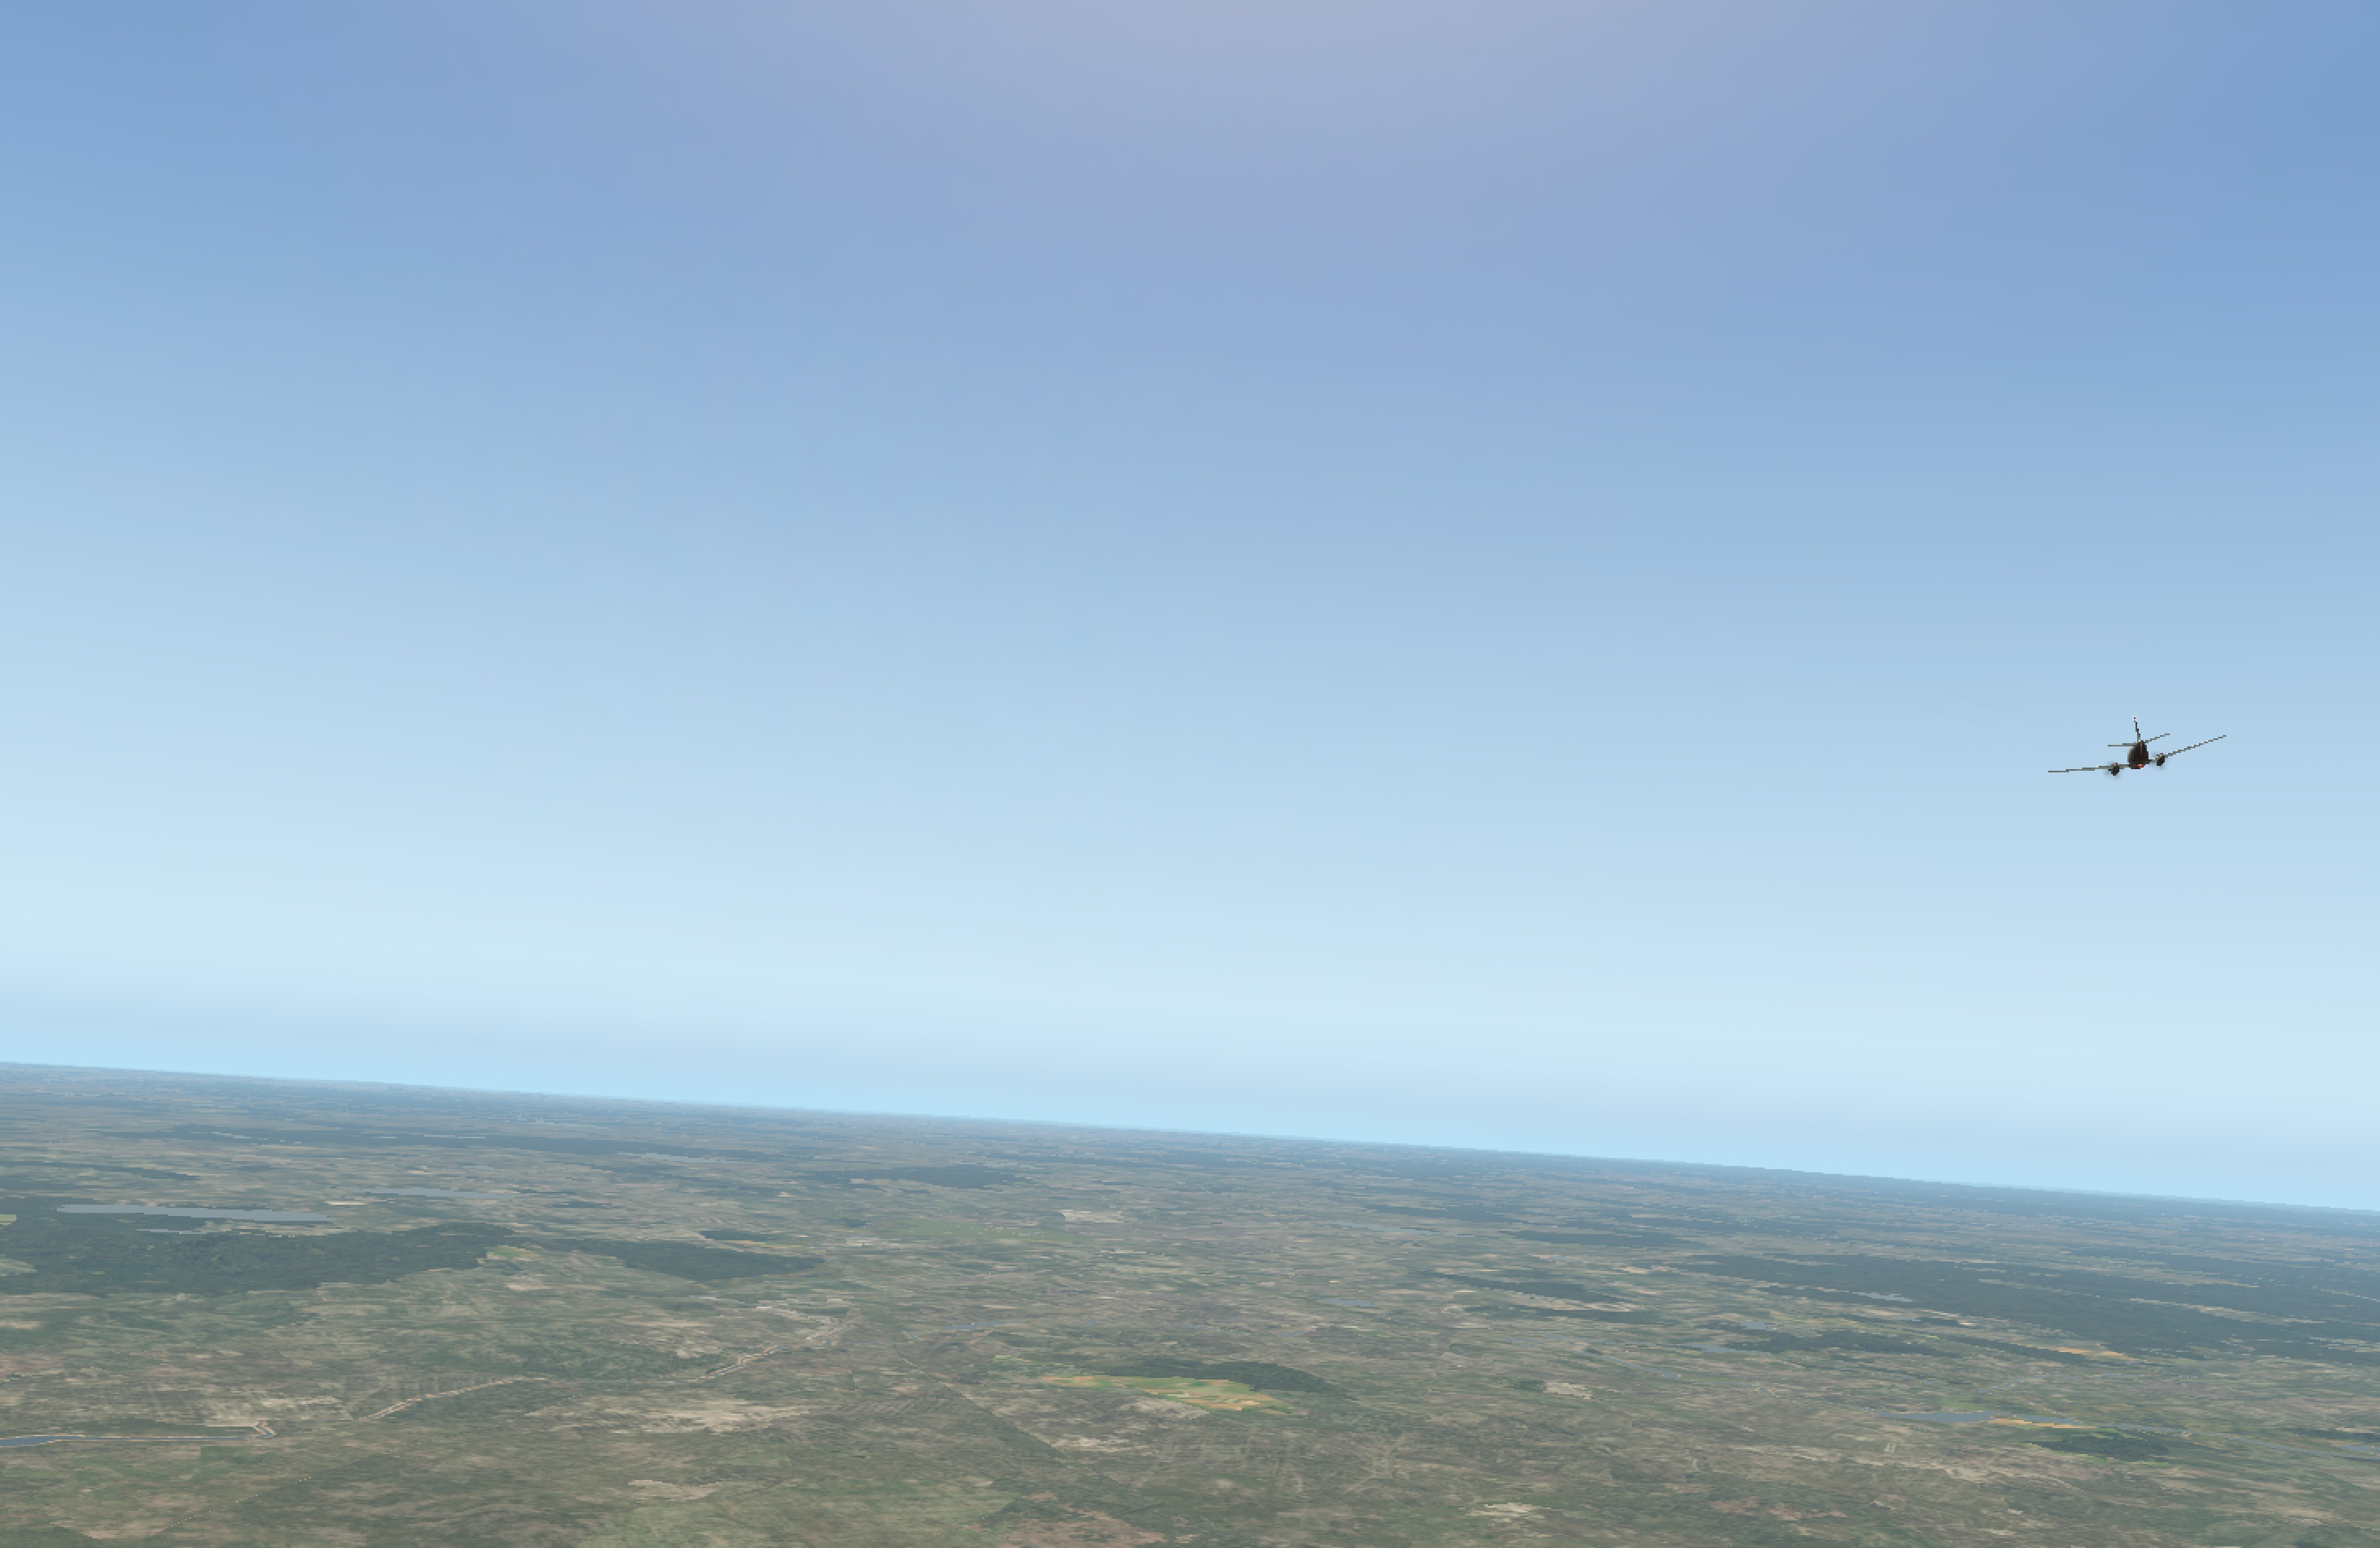aircraft: (2061, 736, 2217, 795)
